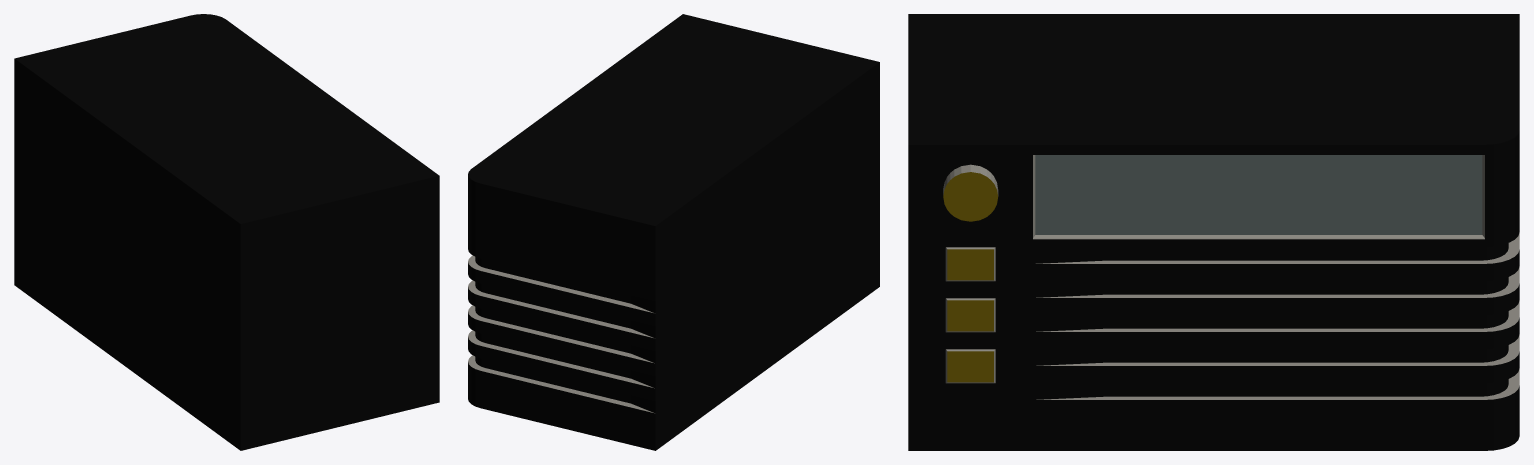
File: Radio 1.fbx
3 views of the same model, side by side, from view 1: azimuth 30°, elevation 25°; view 2: azimuth 150°, elevation 25°; view 3: azimuth 270°, elevation 25° (orthographic). The views are drawn at different scales.
Visible parts, largest first — view 1: Cube; view 2: Cube; view 3: Cube.
Part boxes in pixels (left/top/right/bottom): Cube: left=14, top=14, right=439, bottom=450; Cube: left=468, top=14, right=879, bottom=450; Cube: left=908, top=14, right=1519, bottom=450.
Bounding box in the file's own units: 17.61 × 18.18 × 32.9.
